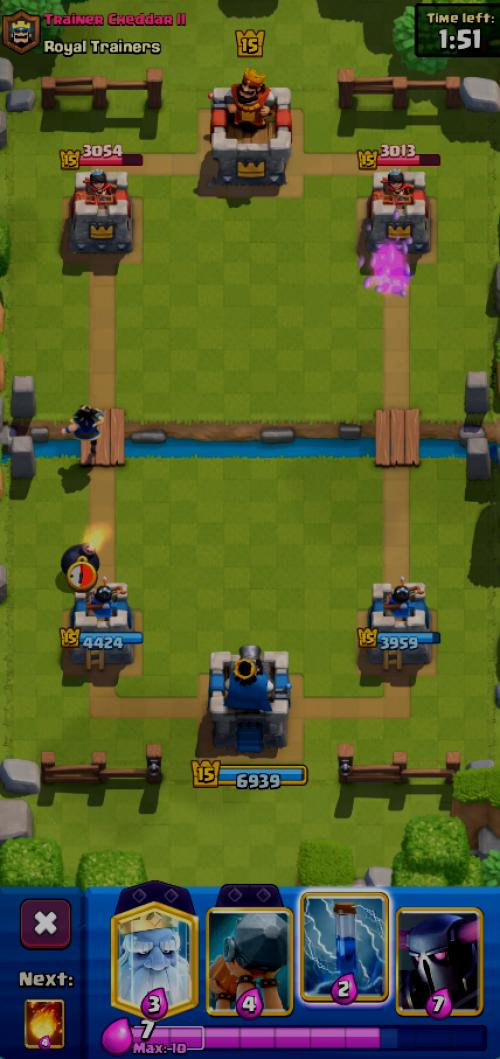Enemy-KingTower: (210, 70, 291, 188)
Enemy-PrincessTower: (366, 169, 429, 255), (69, 169, 132, 254)
